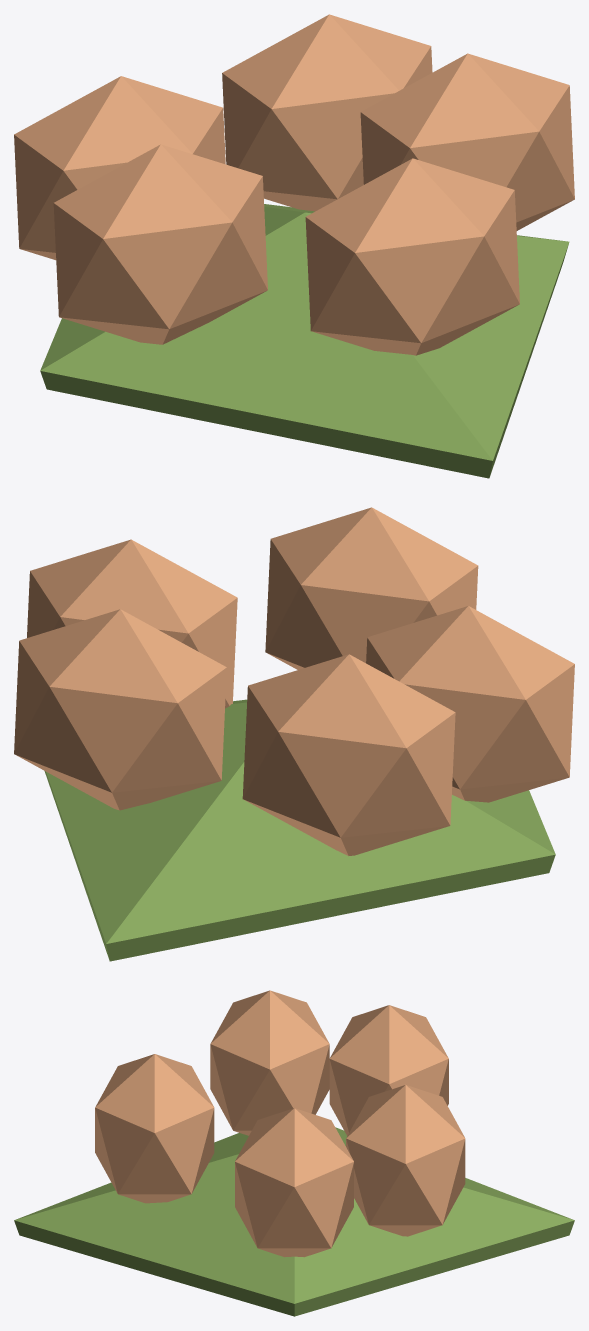
Rendered from CC_FeedMeat.fbx.
The picture shows the model from 3 angles, top to bottom: view 1: azimuth 30°, elevation 25°; view 2: azimuth 150°, elevation 25°; view 3: azimuth 270°, elevation 25°; orthographic projection. The views are drawn at different scales.
Visible parts, largest first — view 1: Wrapping.001, Feed piece.009, Feed piece.007, Feed piece.008, Feed piece.005, Feed piece.006; view 2: Wrapping.001, Feed piece.006, Feed piece.008, Feed piece.009, Feed piece.007, Feed piece.005; view 3: Wrapping.001, Feed piece.007, Feed piece.005, Feed piece.008, Feed piece.009, Feed piece.006.
Part boxes in pixels (left/top/right/bottom): Wrapping.001: left=40, top=204, right=569, bottom=478; Feed piece.009: left=53, top=144, right=267, bottom=344; Feed piece.007: left=305, top=158, right=519, bottom=355; Feed piece.008: left=222, top=14, right=432, bottom=211; Feed piece.005: left=360, top=53, right=574, bottom=230; Feed piece.006: left=14, top=76, right=225, bottom=260; Wrapping.001: left=44, top=699, right=555, bottom=961; Feed piece.006: left=242, top=654, right=455, bottom=855; Feed piece.008: left=14, top=609, right=226, bottom=810; Feed piece.009: left=366, top=606, right=574, bottom=802; Feed piece.007: left=265, top=507, right=478, bottom=669; Feed piece.005: left=27, top=539, right=237, bottom=708; Wrapping.001: left=14, top=1127, right=574, bottom=1316; Feed piece.007: left=95, top=1054, right=214, bottom=1203; Feed piece.005: left=235, top=1108, right=353, bottom=1257; Feed piece.008: left=346, top=1085, right=465, bottom=1236; Feed piece.009: left=210, top=990, right=329, bottom=1135; Feed piece.006: left=329, top=1005, right=448, bottom=1135.
Bounding box in the file's own units: 0.6502 × 0.2938 × 0.8.
